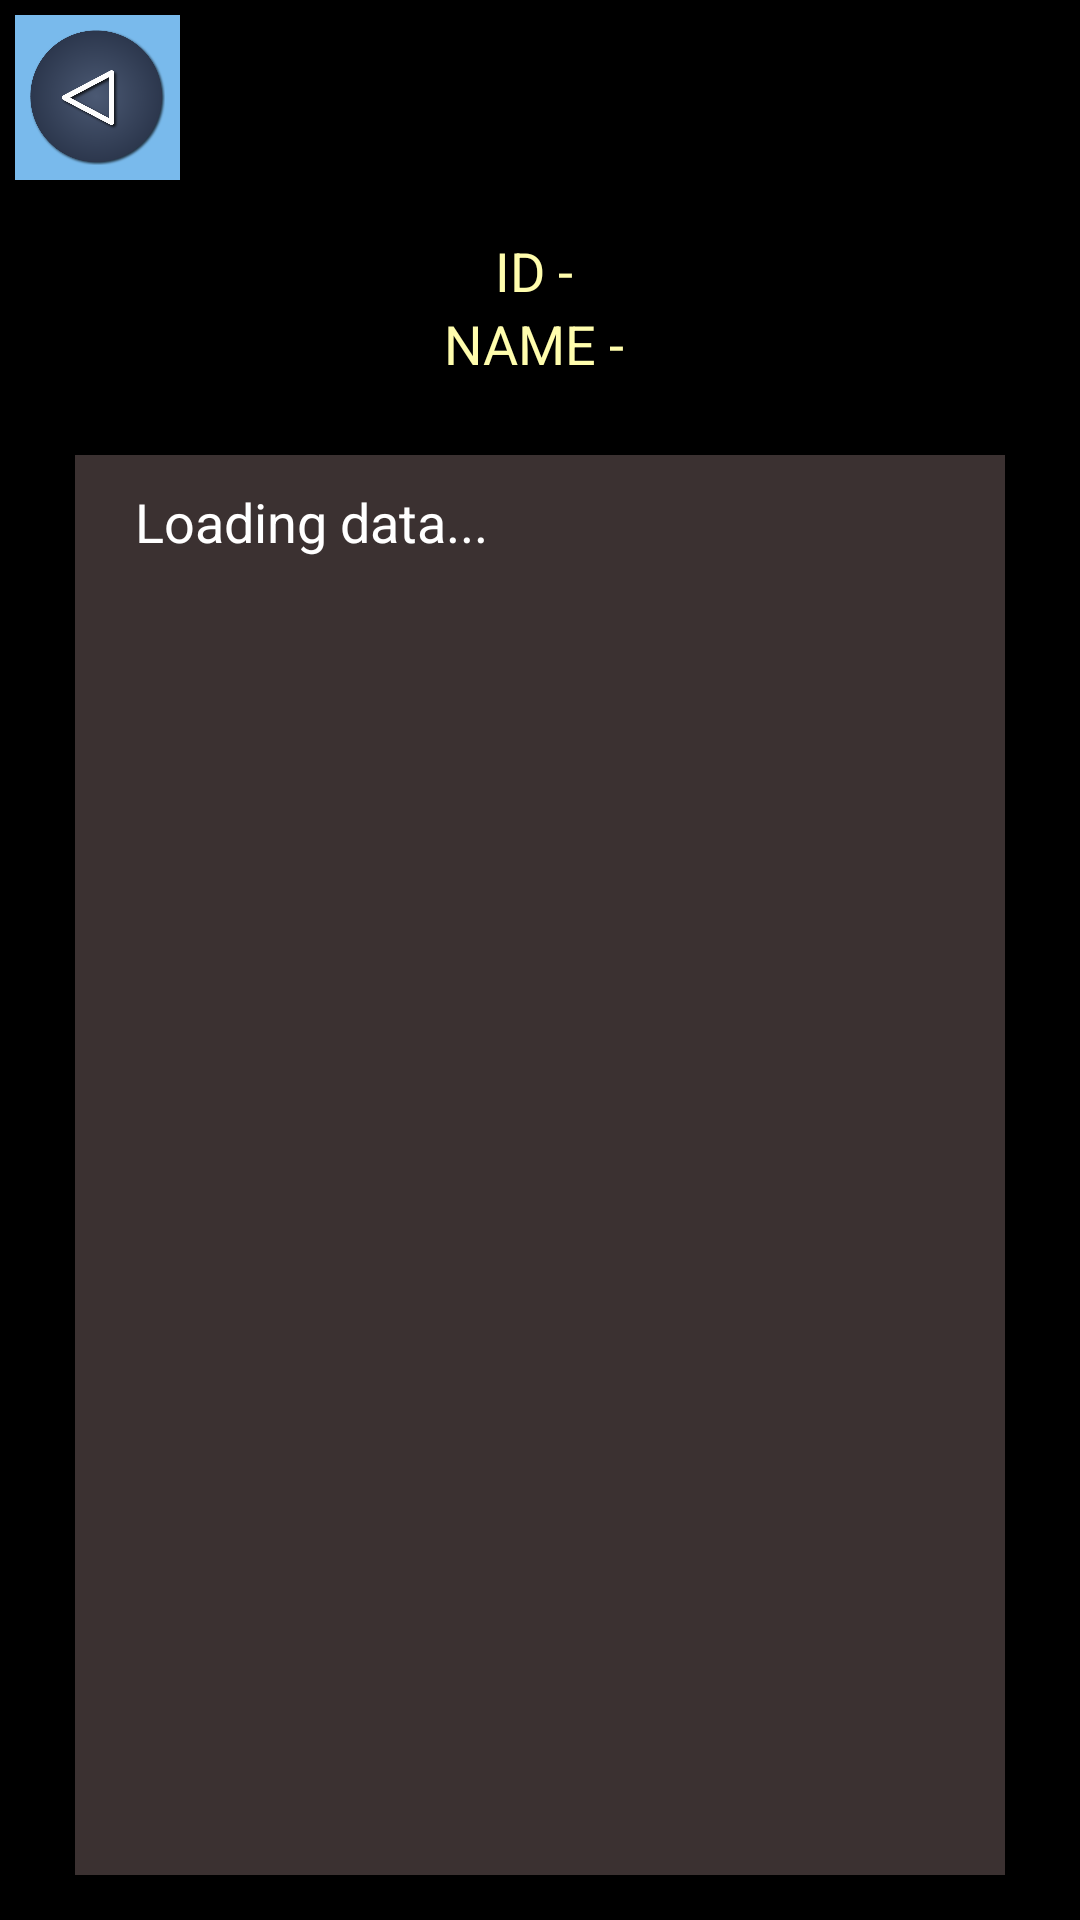

Icon click points for this 1080px×1920px phone screenshot, format [x,y]:
backbutton: [97,97]
